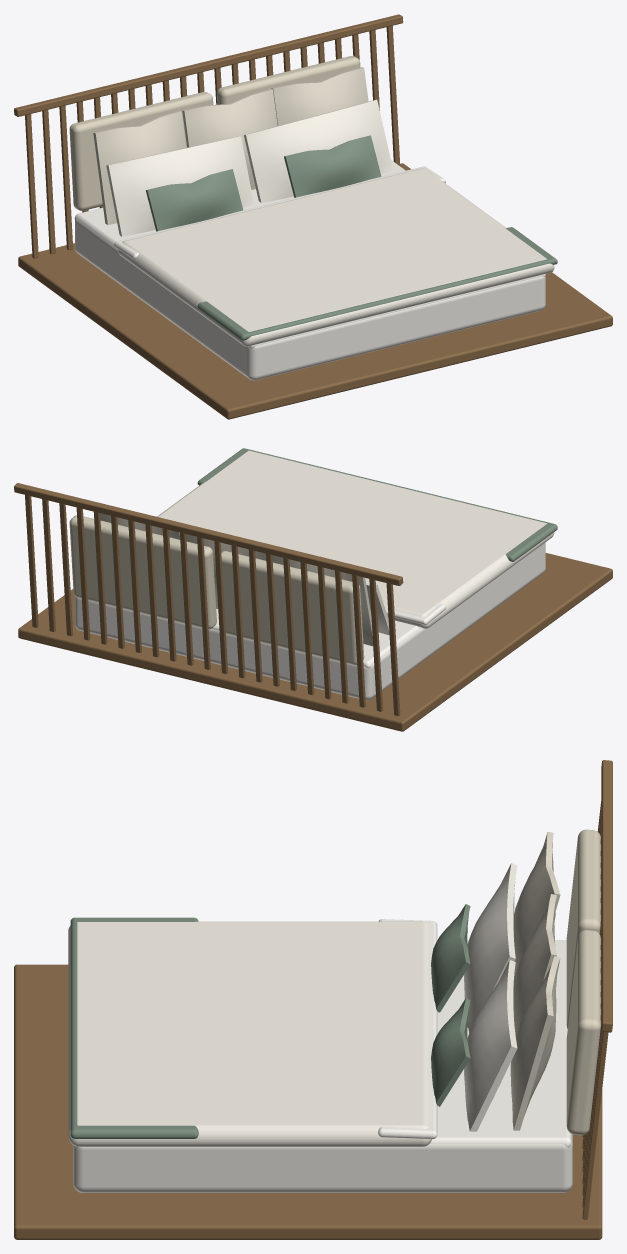
Rendered from atelier-bed-tatami-king.glb.
The picture shows the model from 3 angles, top to bottom: view 1: azimuth 30°, elevation 25°; view 2: azimuth 150°, elevation 25°; view 3: azimuth 270°, elevation 25°; orthographic projection. The views are drawn at different scales.
Size of the model in its own units: 2.53 by 1.08 by 2.43.
